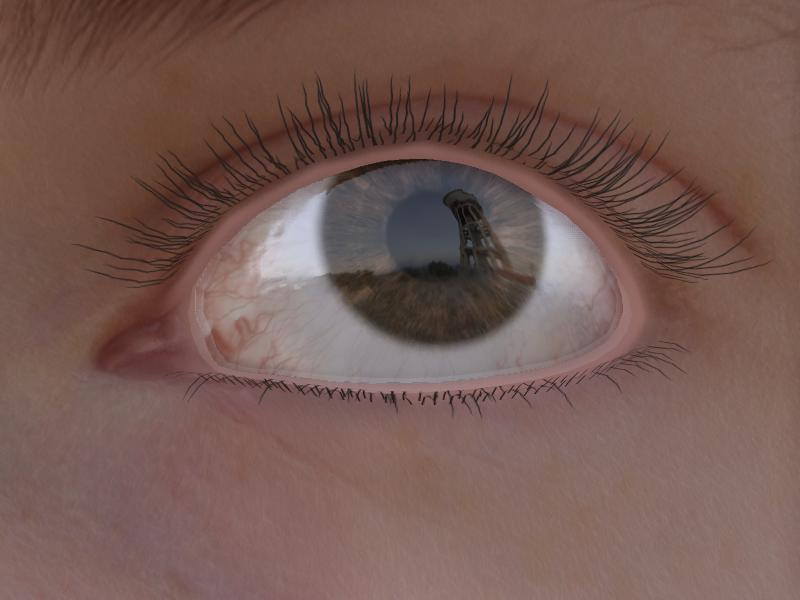eye: (326, 157, 545, 350)
